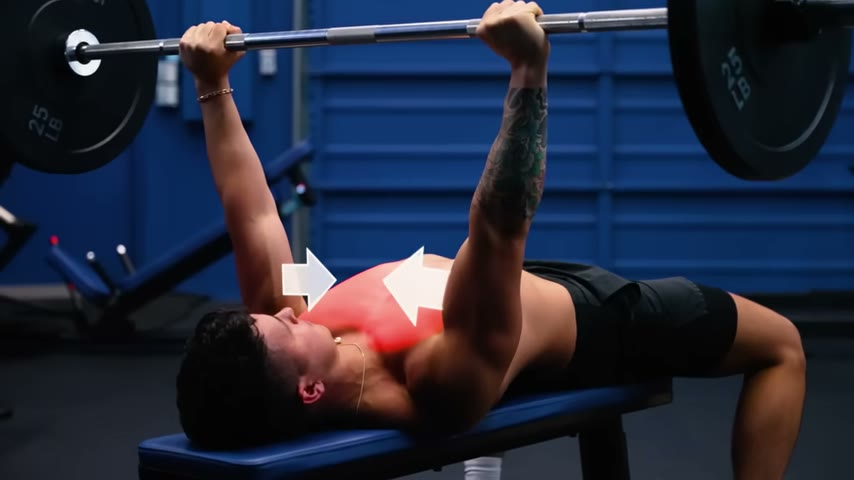barbell_plate_side: (666, 0, 742, 225)
